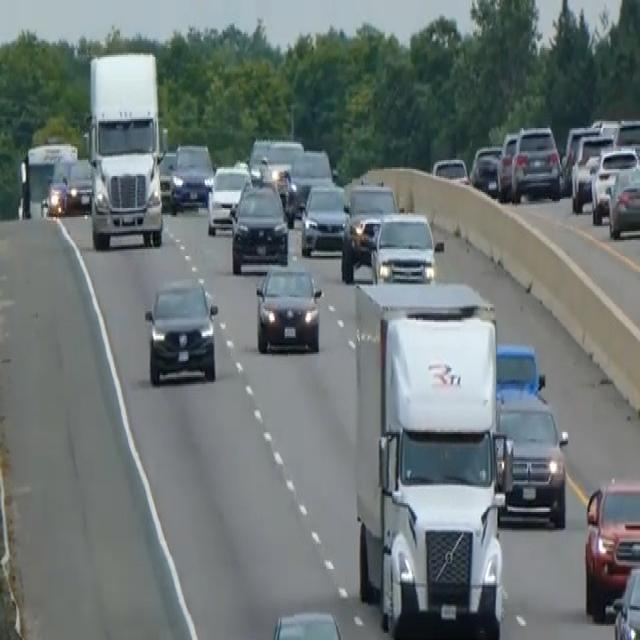car: (495, 388, 568, 528), (143, 274, 219, 386), (583, 474, 639, 618), (254, 261, 323, 354), (340, 179, 398, 281), (229, 178, 289, 272), (370, 208, 437, 283), (510, 122, 562, 202), (590, 144, 639, 224), (300, 180, 348, 256), (569, 132, 613, 212), (169, 140, 213, 213), (287, 146, 333, 215), (206, 162, 249, 234), (495, 340, 546, 400), (606, 162, 639, 238), (267, 608, 346, 638), (611, 562, 639, 638), (43, 155, 74, 217), (469, 142, 502, 196), (496, 128, 519, 199), (65, 156, 93, 212), (613, 115, 639, 169), (432, 155, 468, 185), (157, 148, 177, 202)
lorry: (352, 279, 512, 638), (84, 48, 165, 251)
